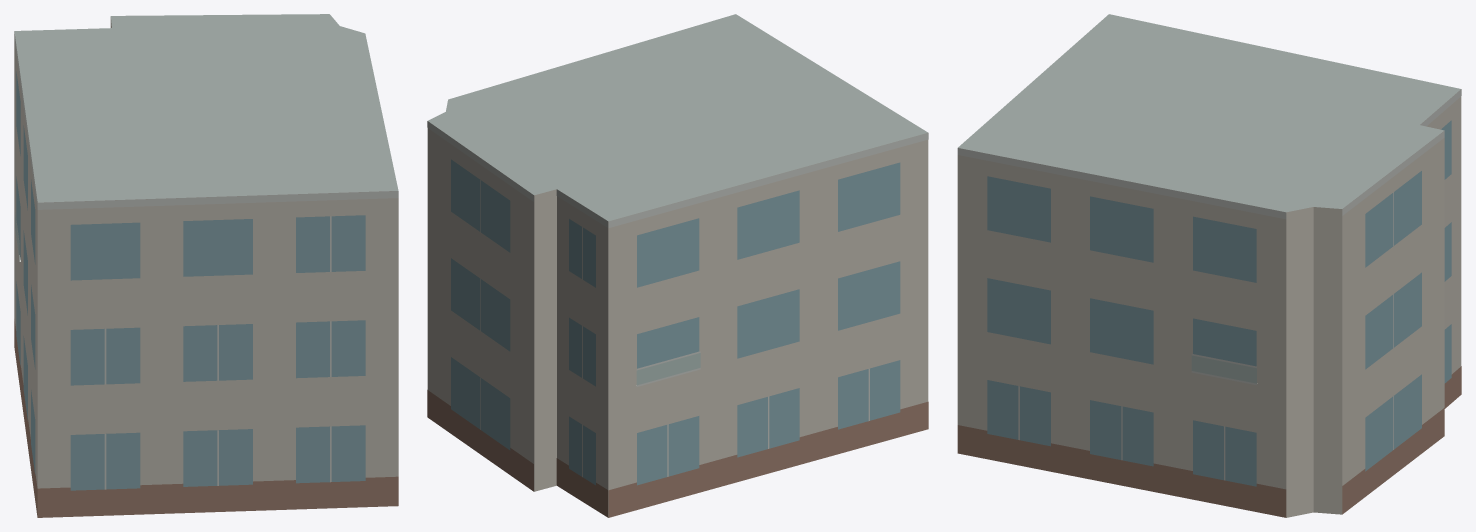
File: survey-upis-32581717.glb
The picture shows the model from 3 angles, left to right: view 1: azimuth 30°, elevation 25°; view 2: azimuth 150°, elevation 25°; view 3: azimuth 270°, elevation 25°; orthographic projection. The views are drawn at different scales.
Parts seen in each view (by area): view 1: survey-upis-32581717.tmp; view 2: survey-upis-32581717.tmp; view 3: survey-upis-32581717.tmp.
Part boxes in pixels (x1,y1,x2,y2): survey-upis-32581717.tmp: (14,14,398,517); survey-upis-32581717.tmp: (427,14,928,517); survey-upis-32581717.tmp: (957,14,1461,517).
Size of the model in its own units: 14.62 by 10.5 by 15.7.
